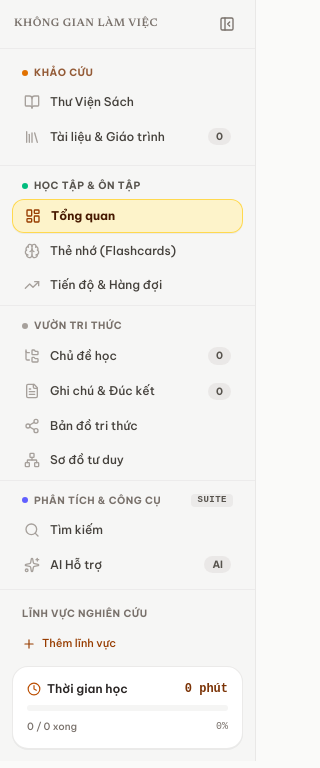
Test: Post-Phase 5: Dynamic Taxonomy & Topic Visibility UI Integration Tests › 2. Adding a new domain from Sidebar adds a new root category immediately
Click the button "Thêm lĩnh vực" at [128, 644], box [12,629,243,658]
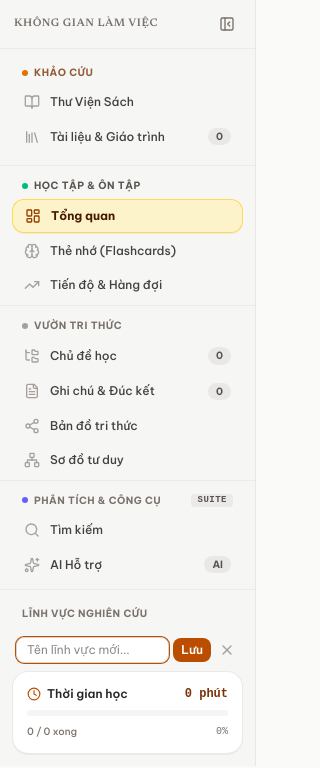
Type "Khoa Học Tự Nhiên" into the field with placeholder "Tên lĩnh vực mới..." at [93, 650], box [16,637,169,663]
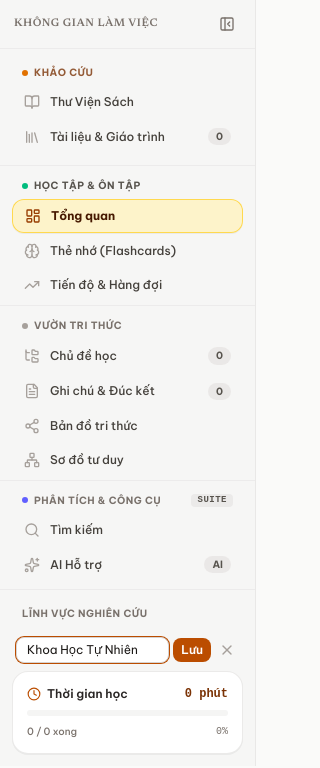
Click the button "Lưu" at [192, 650], box [173,638,211,662]
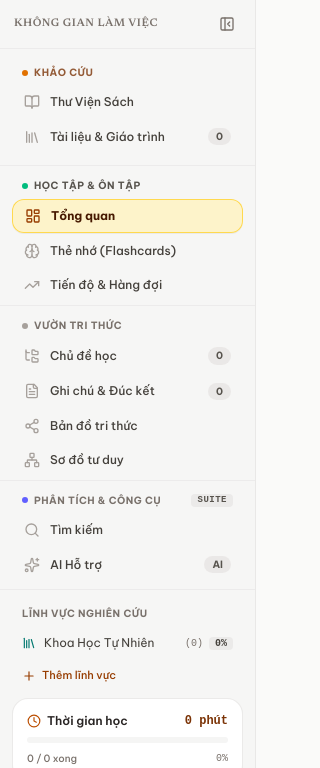
expect the text "Khoa Học Tự Nhiên" is shown: met, box [44,635,154,651]
